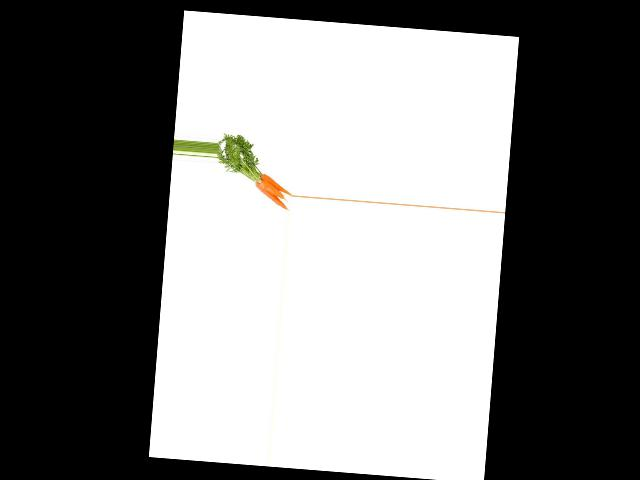carrot: (260, 172, 293, 196)
